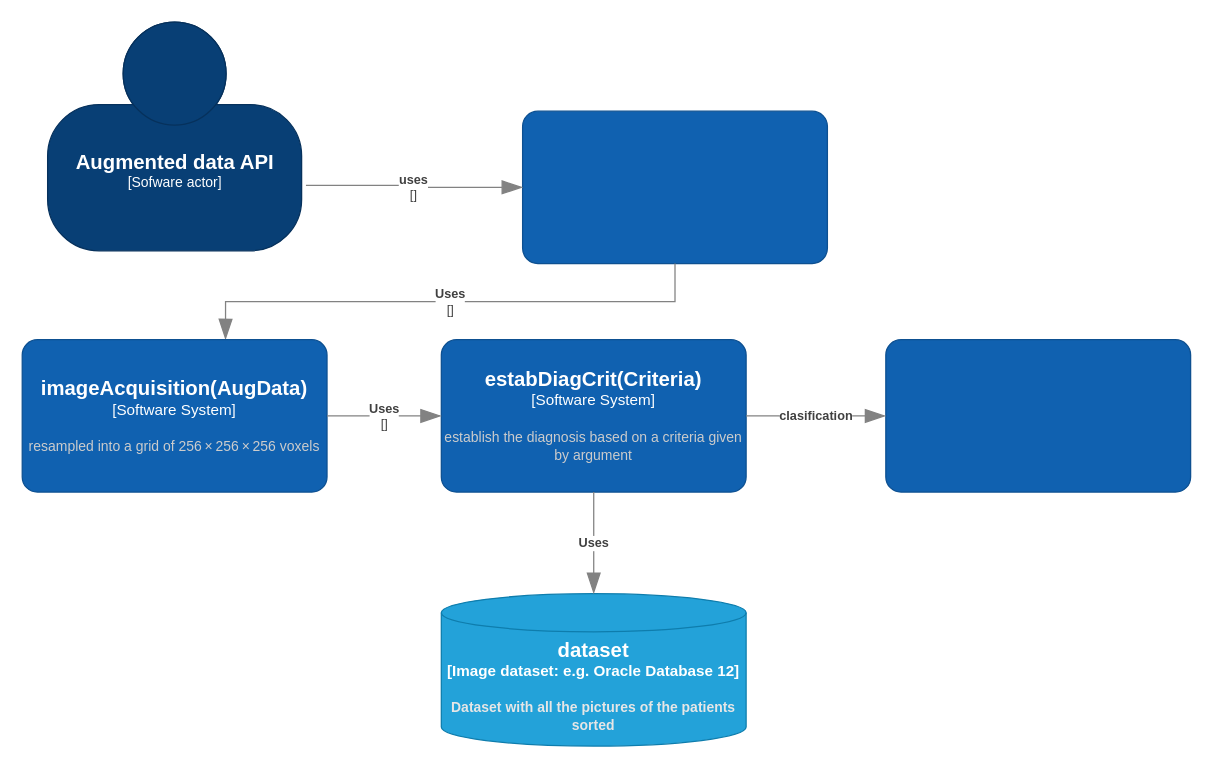
This 1213x768 diagram has some shape labels left out. Here are the shapes that lost their labels. From the top down, the centre of each, then its label:
At [674,187]: "Get Augmented Data [Software System] gets the augmented data".
At [1038,415]: "Generate diagnostic [Software System] generates the diagnostic for the patient".
